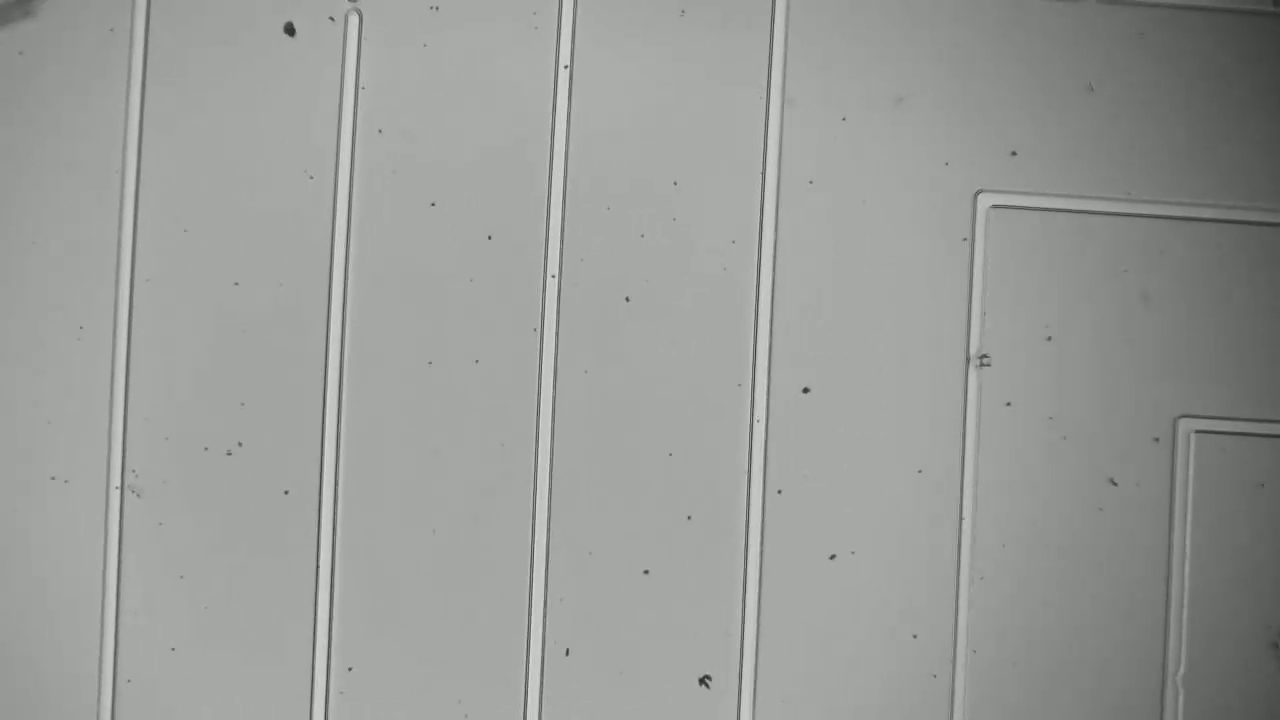edge_bite: (1149, 648, 1197, 703), (958, 336, 1005, 385)
open: (330, 1, 384, 37)
